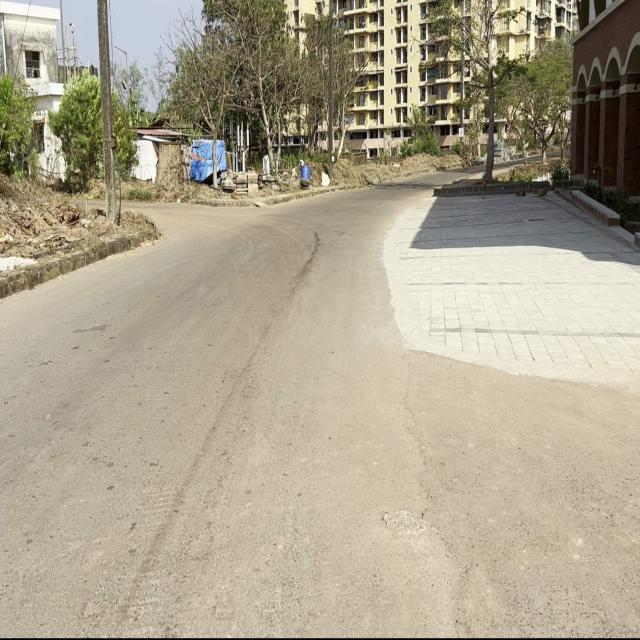Road: (0, 185, 450, 639)
